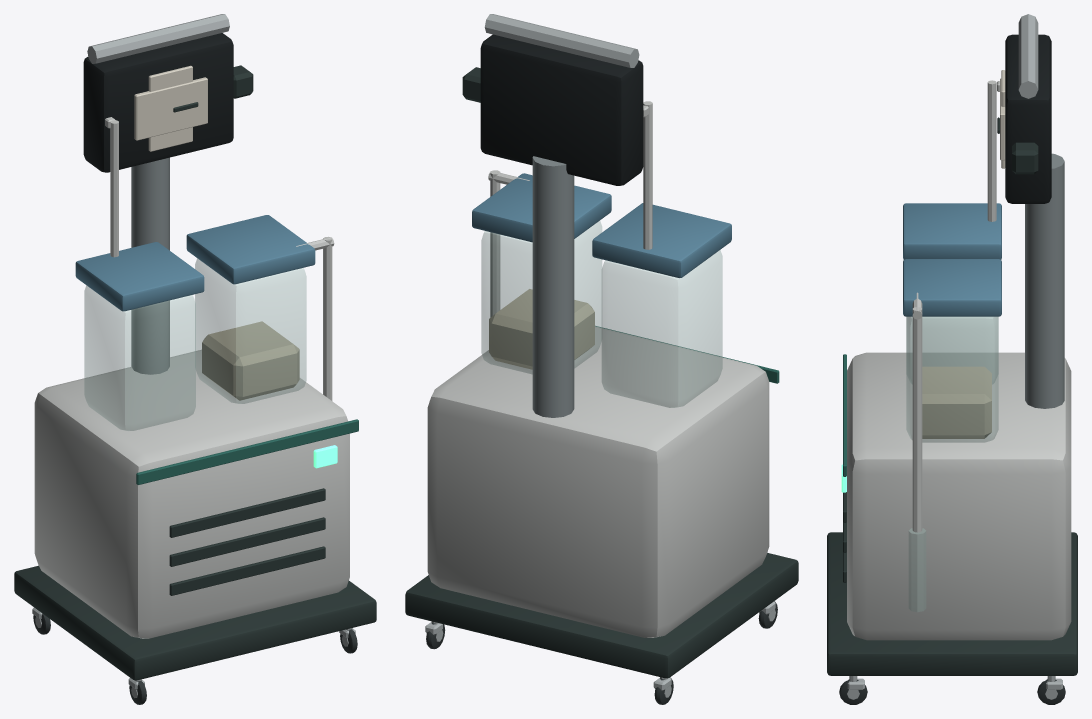
File: suction-unit.glb
3 views of the same model, side by side, from view 1: azimuth 30°, elevation 25°; view 2: azimuth 150°, elevation 25°; view 3: azimuth 270°, elevation 25° (orthographic). The views are drawn at different scales.
Visible parts, largest first — view 1: suction-unit; view 2: suction-unit; view 3: suction-unit.
Part boxes in pixels (left/top/right/bottom): suction-unit: left=14, top=14, right=376, bottom=704; suction-unit: left=405, top=14, right=798, bottom=704; suction-unit: left=827, top=14, right=1077, bottom=704.
Bounding box in the file's own units: 0.4422 × 1.01 × 0.38.
